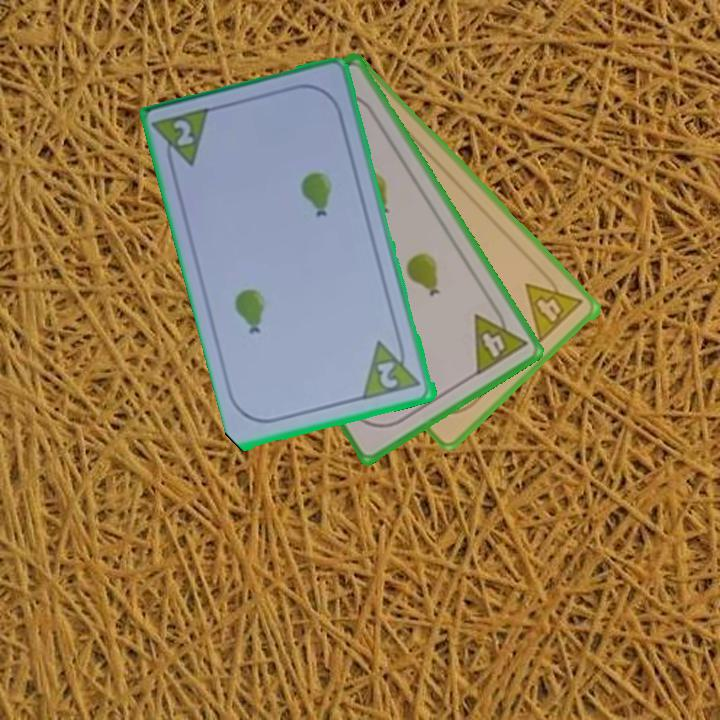2p: (151, 103, 216, 176), (360, 333, 425, 403)
4p: (522, 266, 586, 346), (470, 300, 531, 379)
